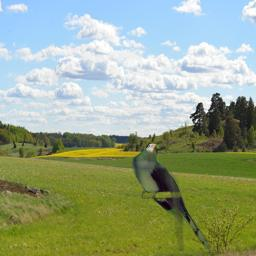Cuckoo: (132, 142, 216, 251)
